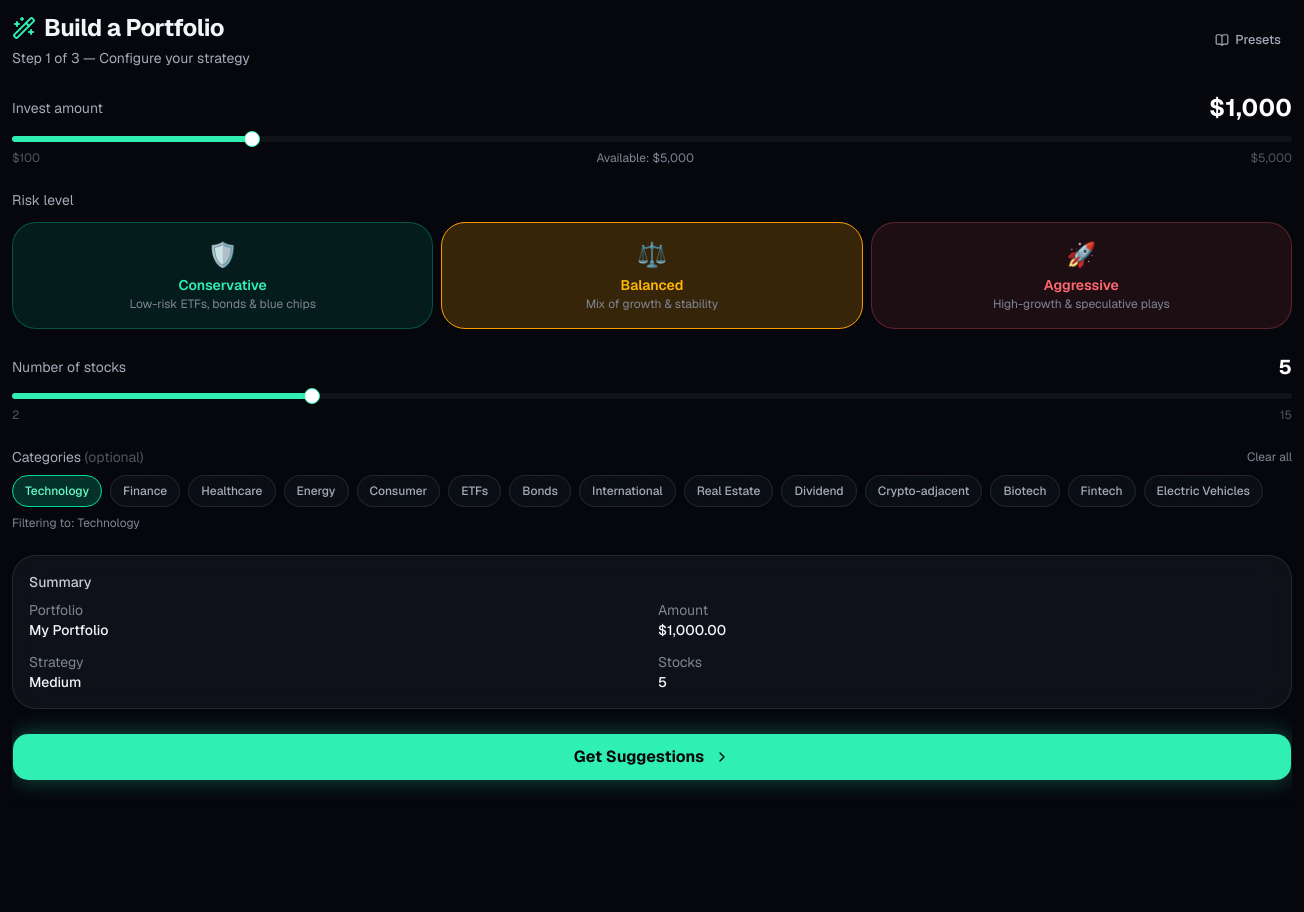
Test: shows 'Clear all' when categories are selected and clears them on click
The image size is (1304, 912).
Expected: the text "Filtering to: Technology" is shown, [12,515,140,531]
Click the button "Clear all".
click(1269, 457)  # box [1247,449,1292,465]
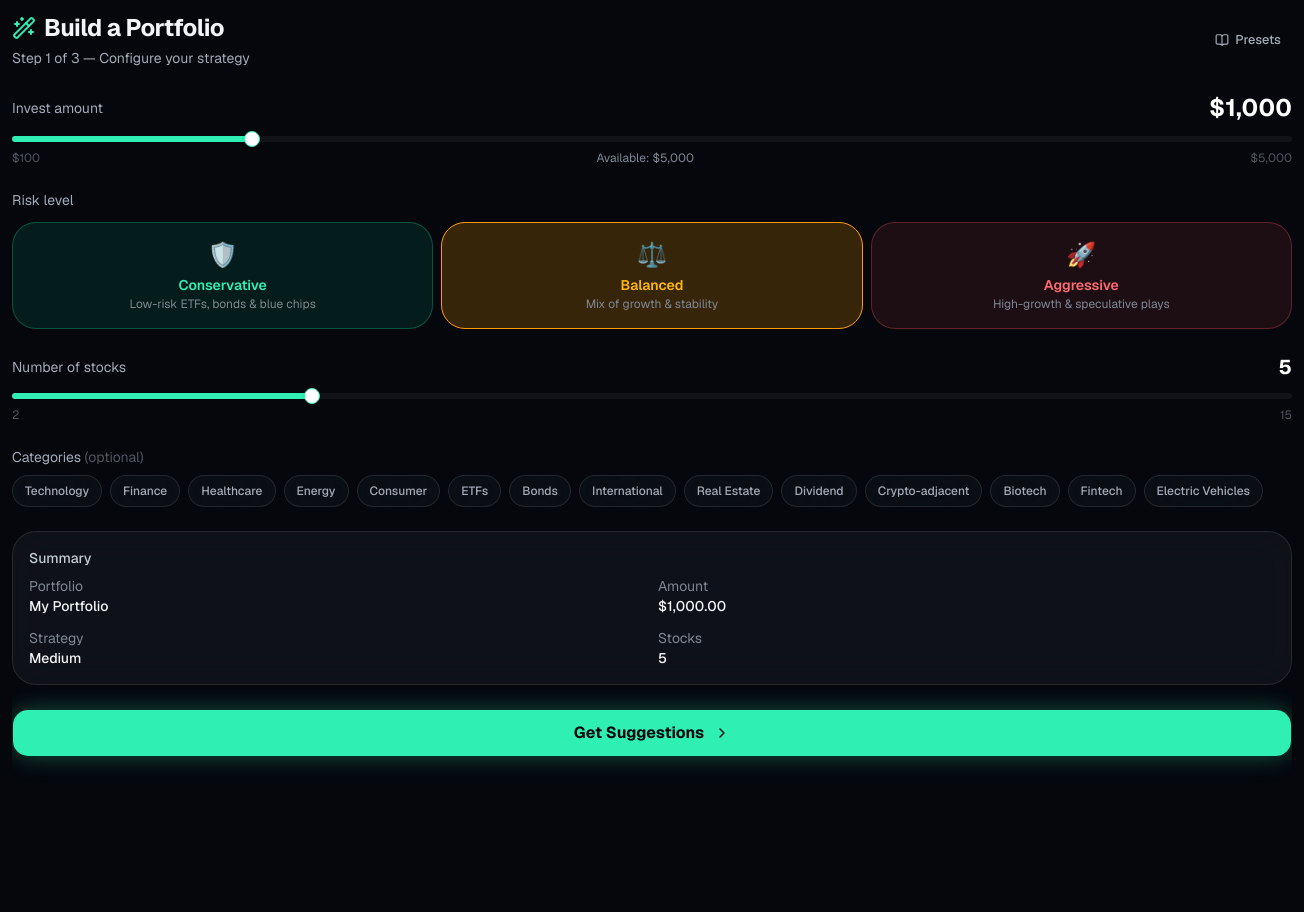
Expected: the text "Filtering to" is gone
